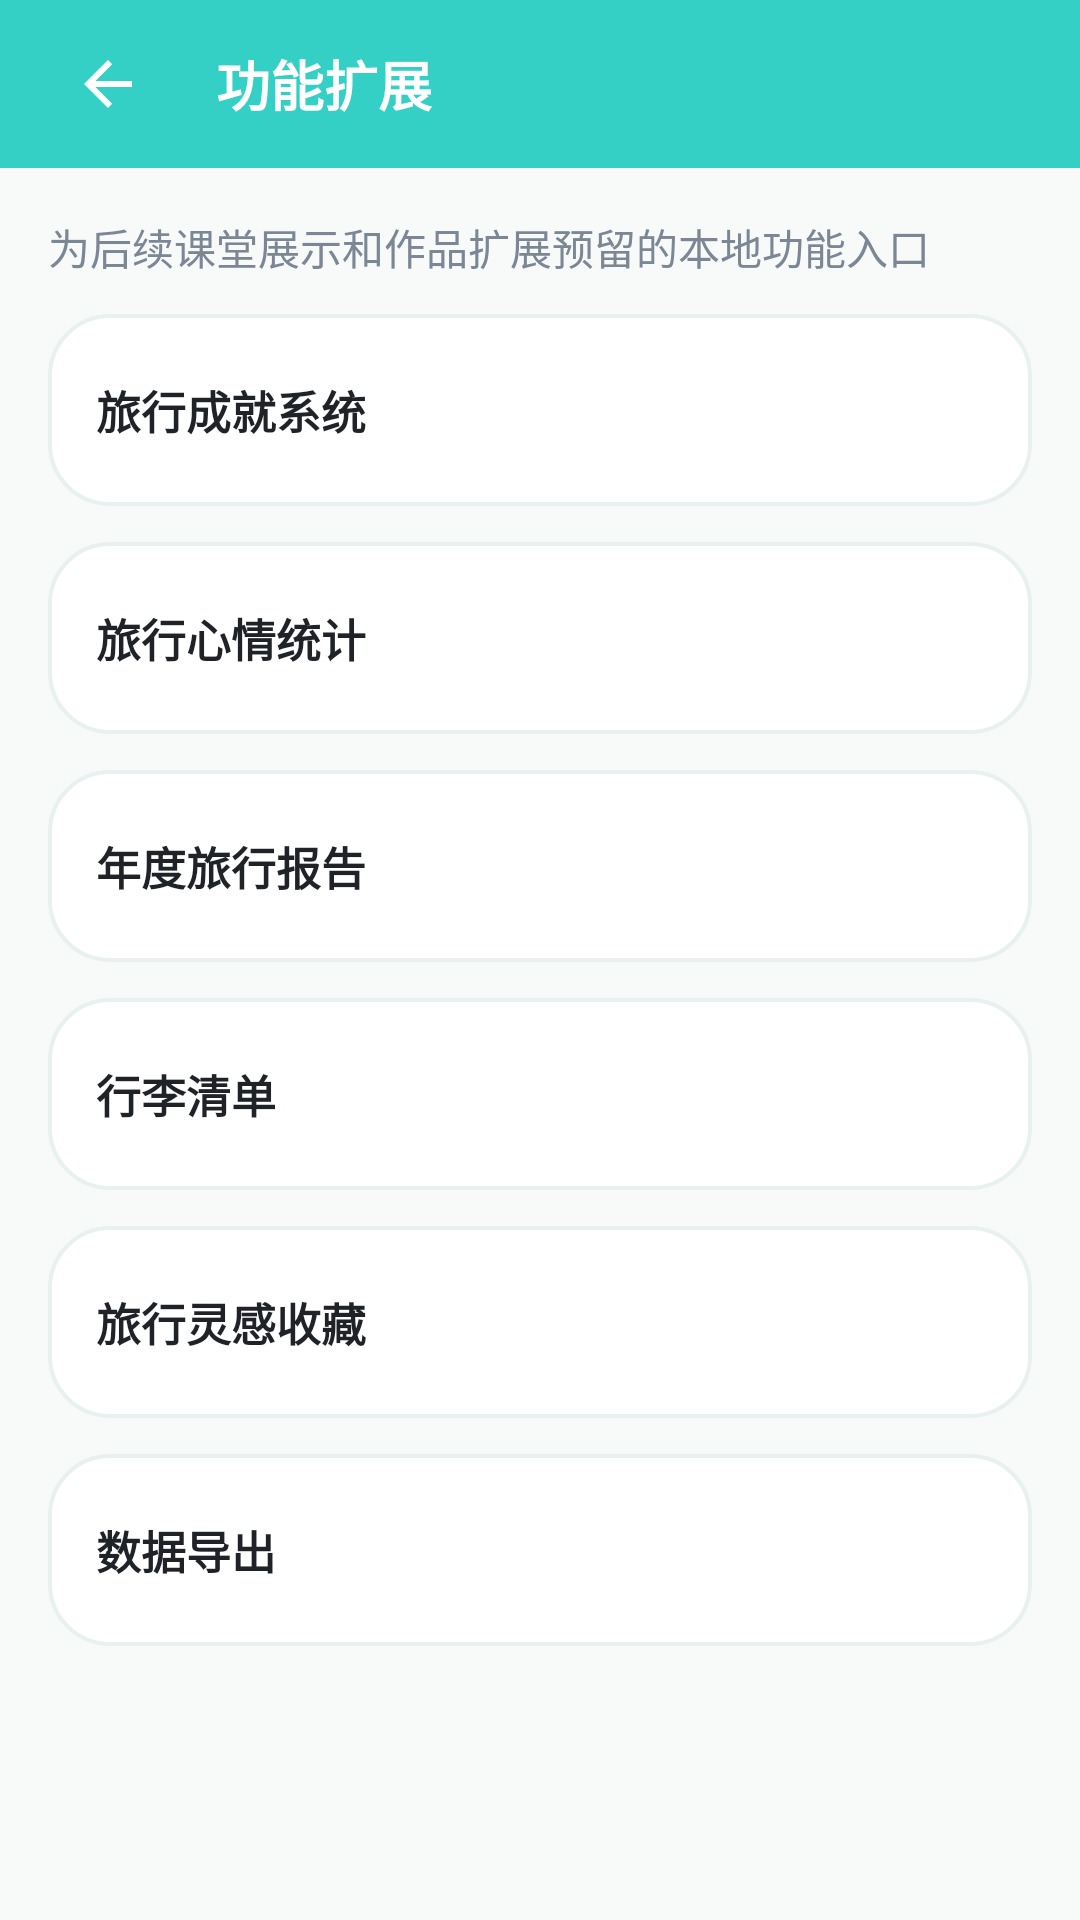

Named icons in this screenshot (1080 × 1920) and their bounding boxes, (x1, y1, x2, y2):
返回: (84, 60, 132, 108)
